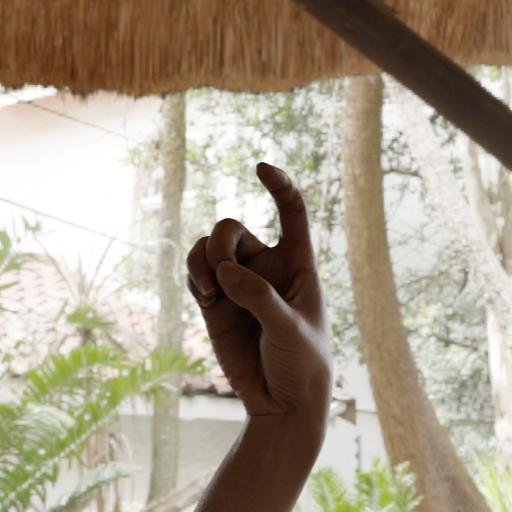X: (175, 156, 348, 438)
